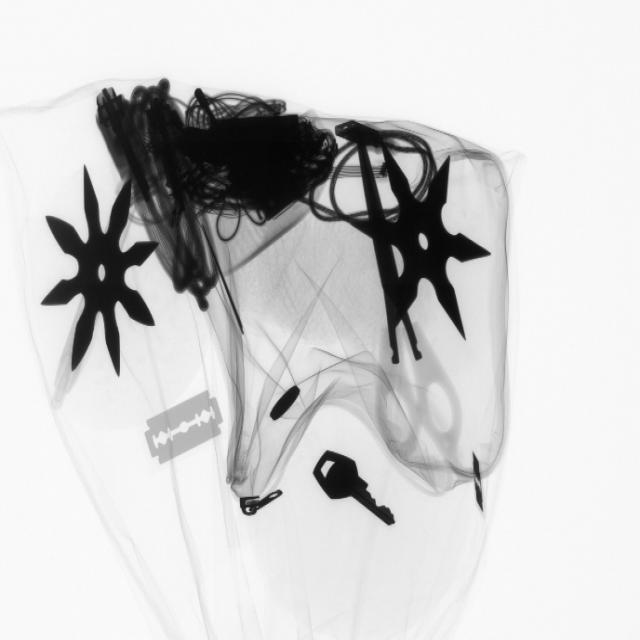BLADE: (144, 384, 232, 470), (464, 445, 493, 522)
SHURIKEN: (358, 142, 493, 357), (40, 163, 164, 383)
